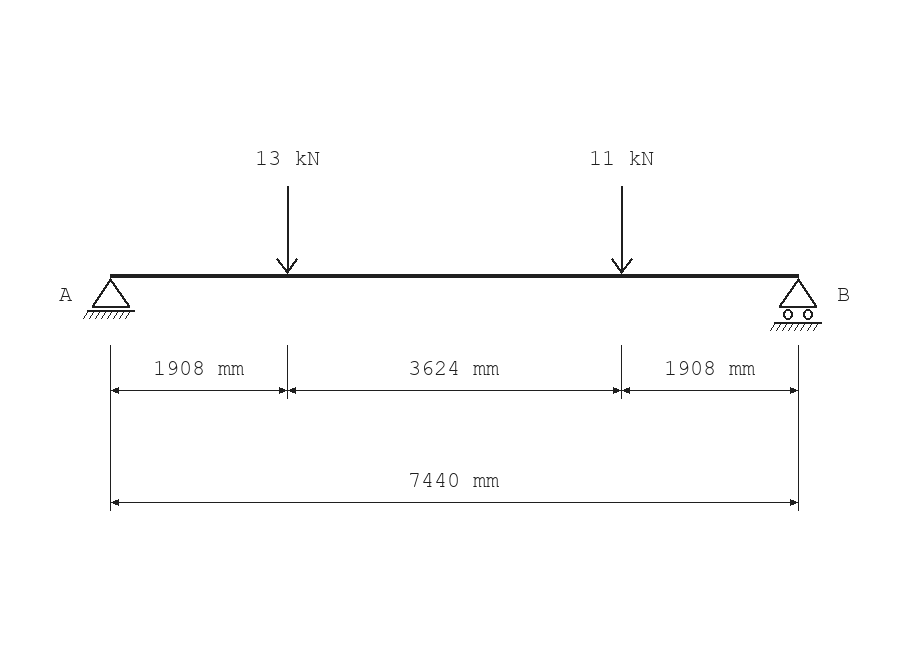pin_support: (83, 278, 135, 319)
point_load: (276, 186, 298, 274), (611, 186, 633, 274)
roller_support: (770, 278, 822, 331)
